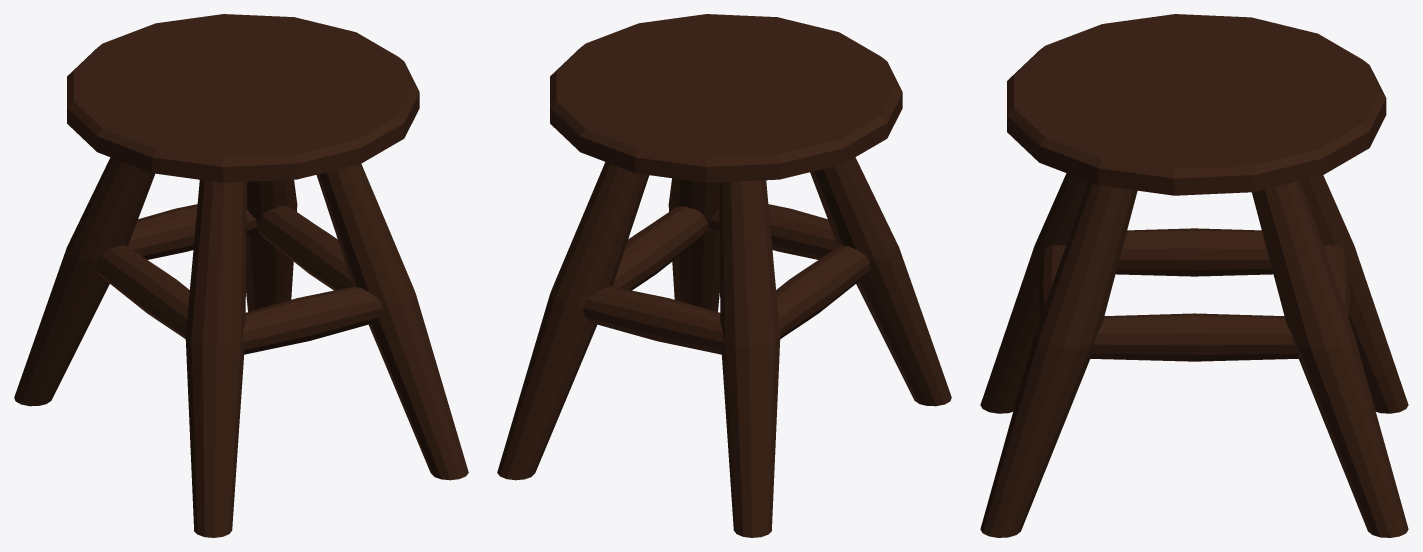
File: Stool.fbx
The picture shows the model from 3 angles, left to right: view 1: azimuth 30°, elevation 25°; view 2: azimuth 150°, elevation 25°; view 3: azimuth 270°, elevation 25°; orthographic projection. The views are drawn at different scales.
Parts seen in each view (by area): view 1: Cylinder, Circle, Cylinder.001, Cylinder.002; view 2: Cylinder, Circle, Cylinder.001, Cylinder.002; view 3: Circle, Cylinder, Cylinder.002, Cylinder.001.
Part boxes in pixels (x1,y1,x2,y2): Cylinder: (14, 157, 468, 537); Circle: (67, 14, 419, 182); Cylinder.001: (127, 204, 382, 354); Cylinder.002: (95, 206, 353, 338); Cylinder: (497, 157, 951, 537); Circle: (550, 14, 902, 182); Cylinder.001: (583, 204, 838, 354); Cylinder.002: (612, 206, 870, 338); Circle: (1007, 14, 1386, 195); Cylinder: (980, 173, 1408, 537); Cylinder.002: (1090, 228, 1298, 361); Cylinder.001: (1039, 245, 1349, 317).
Size of the model in its own units: 199 by 216 by 223.
